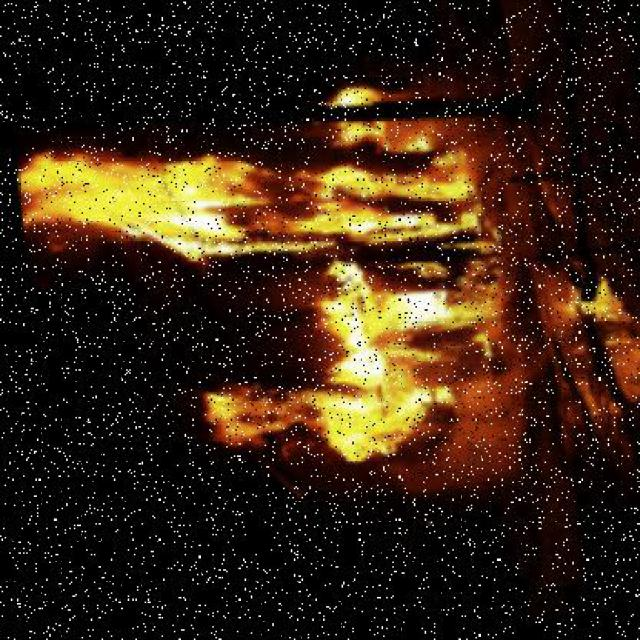fire: (13, 119, 487, 275), (174, 348, 450, 468), (290, 265, 512, 349)
